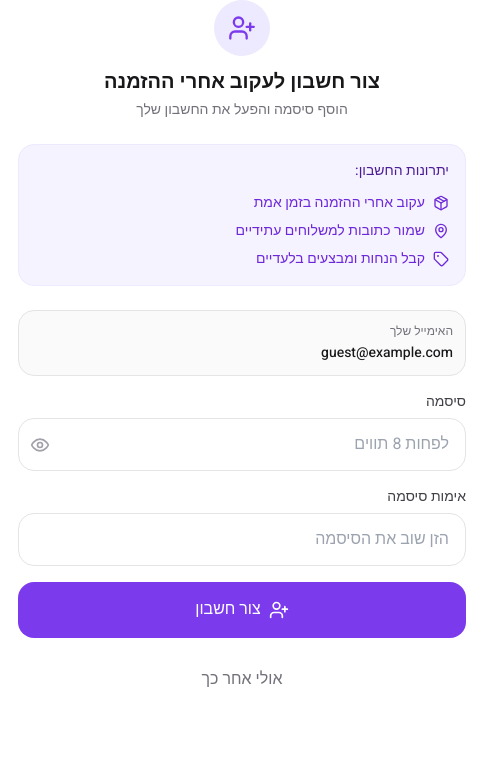
Test: PostPurchaseSignup › Password Validation › should clear error when user starts typing
Type "123" into the password field labelled "סיסמה" at (242,445), box [18, 418, 466, 471]
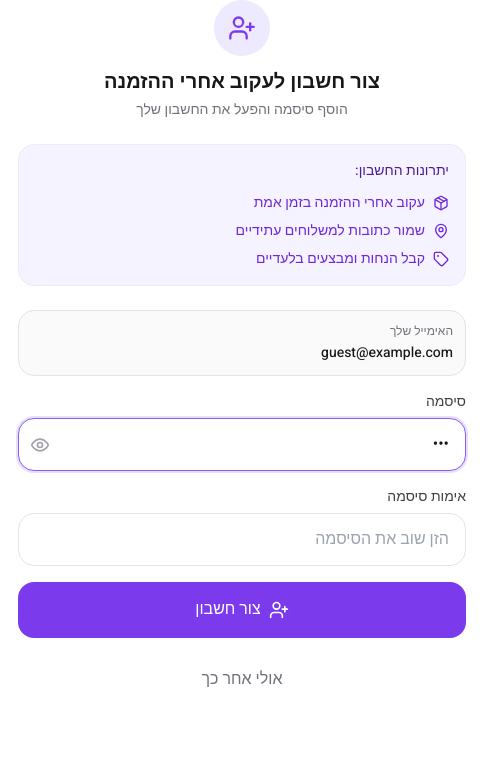
Type "123" into the password field labelled "אימות סיסמה" at (242,540), box [18, 513, 466, 566]
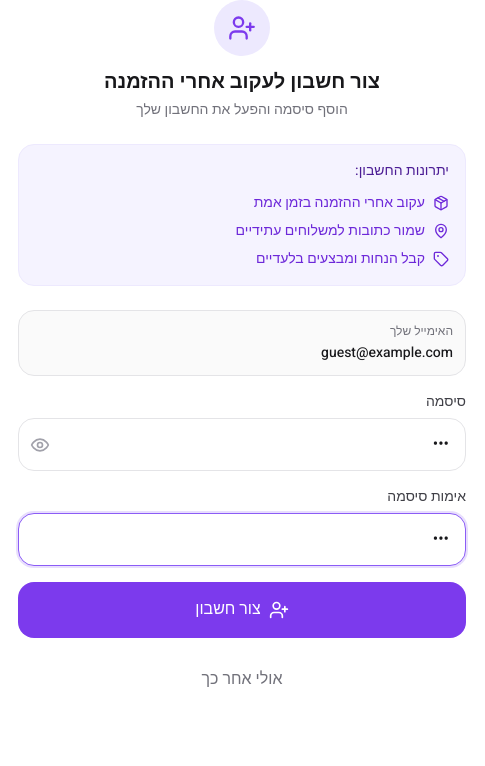
Click the button "צור חשבון" at (242,610), box [18, 582, 466, 638]
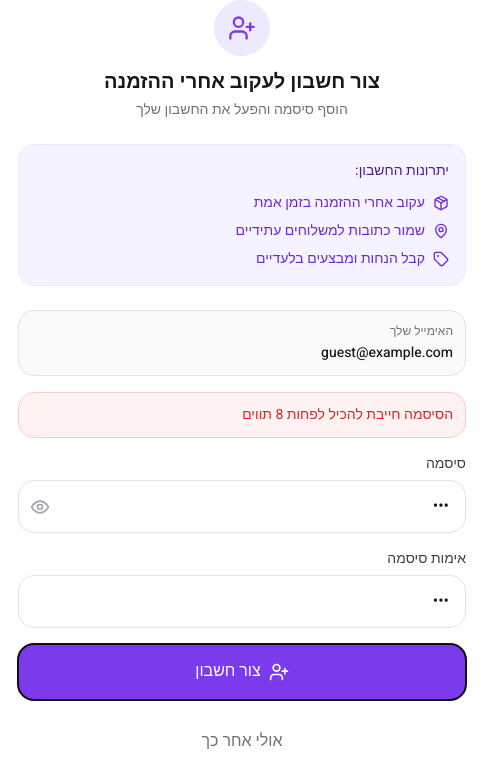
Result: the text "הסיסמה חייבת להכיל לפחות 8 תווים" is shown at [18, 392, 466, 438]
// Start typing again
Type "45678" into the password field labelled "סיסמה" at (242,507), box [18, 480, 466, 533]
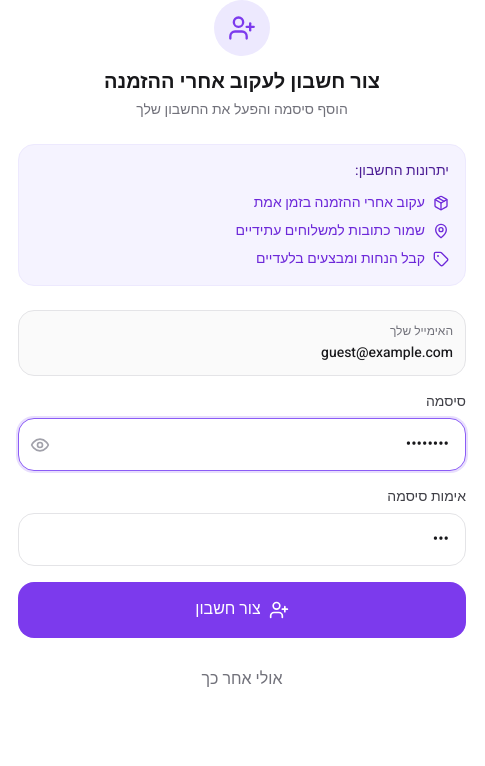
Result: the text "לפחות 8 תווים" is gone
